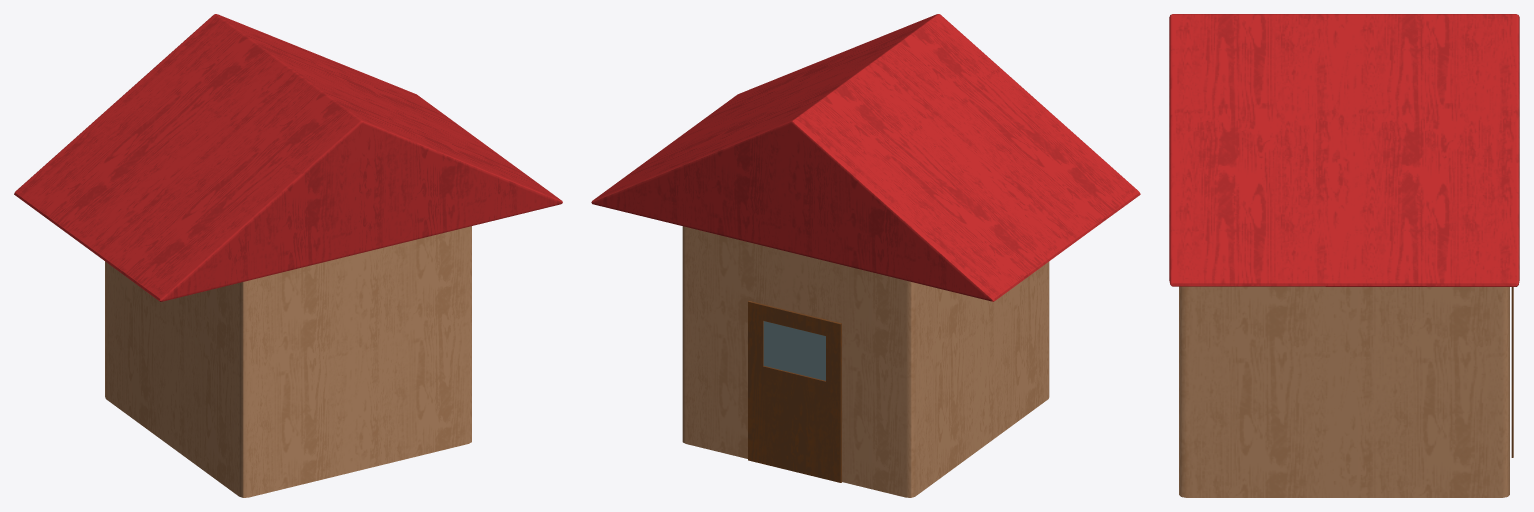
The model's file is House.obj.
The picture shows the model from 3 angles, left to right: view 1: azimuth 30°, elevation 25°; view 2: azimuth 150°, elevation 25°; view 3: azimuth 270°, elevation 25°; orthographic projection. The views are drawn at different scales.
Visible parts, largest first — view 1: house; view 2: house; view 3: house.
Boxes of the visible parts, box(x1,y1,x2,y2) form: house: box(14, 14, 562, 497); house: box(591, 14, 1140, 497); house: box(1169, 14, 1519, 497).
Bounding box in the file's own units: 3.21 × 2.67 × 2.04.
Materials: 1 (1 with a texture image).
